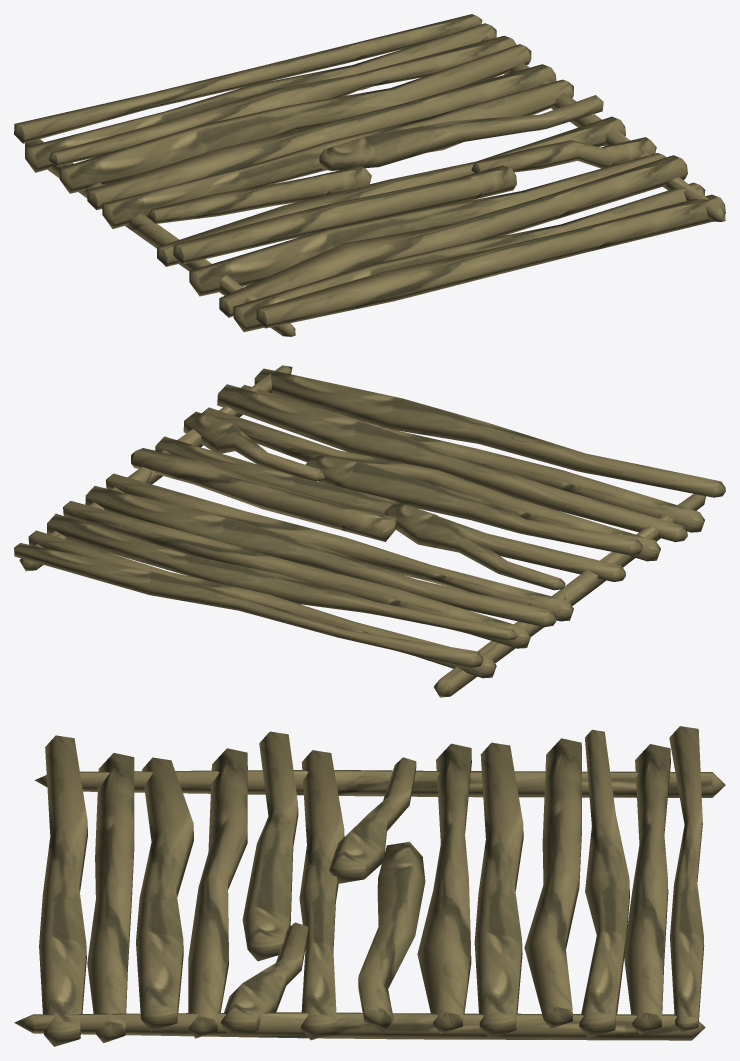
Rendered from Floor.FBX.
The picture shows the model from 3 angles, top to bottom: view 1: azimuth 30°, elevation 25°; view 2: azimuth 150°, elevation 25°; view 3: azimuth 270°, elevation 25°; orthographic projection. The views are drawn at different scales.
Parts seen in each view (by area): view 1: Floor; view 2: Floor; view 3: Floor.
Part boxes in pixels (x1,y1,x2,y2): Floor: (14, 14, 725, 336); Floor: (14, 365, 725, 697); Floor: (14, 726, 725, 1046).
Size of the model in its own units: 6.29 by 0.6718 by 6.4.
Materials: 1 (1 with a texture image).
